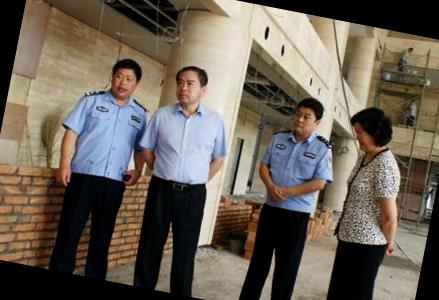no_helmet: (342, 102, 394, 162), (167, 59, 213, 111), (102, 52, 147, 104), (286, 93, 328, 143)
